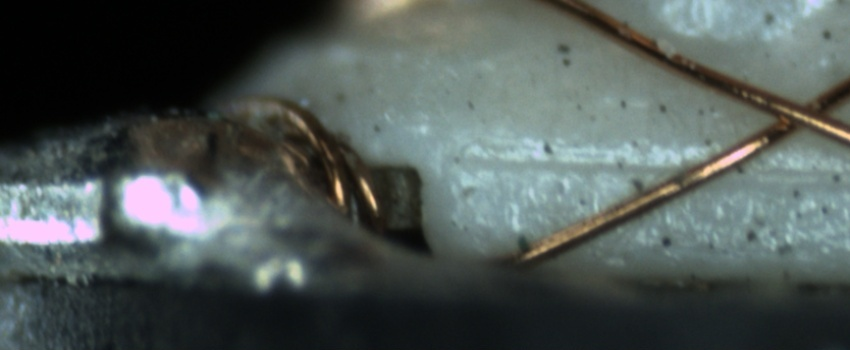CL: (746, 78, 846, 146)
DL: (462, 140, 850, 192)
TE: (231, 88, 392, 241)
